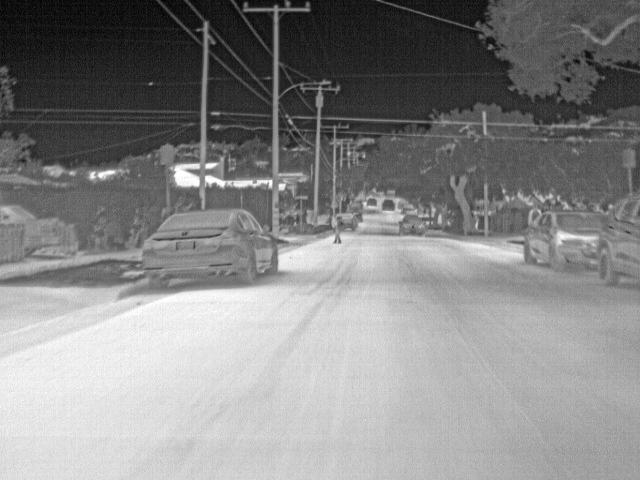car: (140, 207, 279, 291), (524, 208, 599, 272), (598, 194, 640, 286), (400, 213, 426, 236), (341, 213, 359, 230), (400, 204, 414, 218), (348, 199, 363, 210), (384, 199, 396, 211), (351, 210, 364, 221), (398, 198, 410, 209), (367, 197, 378, 206)
person: (526, 202, 544, 225), (330, 214, 343, 243)
